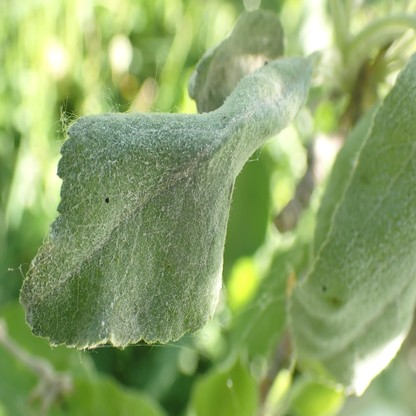powdery_mildew: (19, 54, 307, 350), (298, 53, 416, 311), (187, 11, 285, 111), (350, 283, 416, 397)
